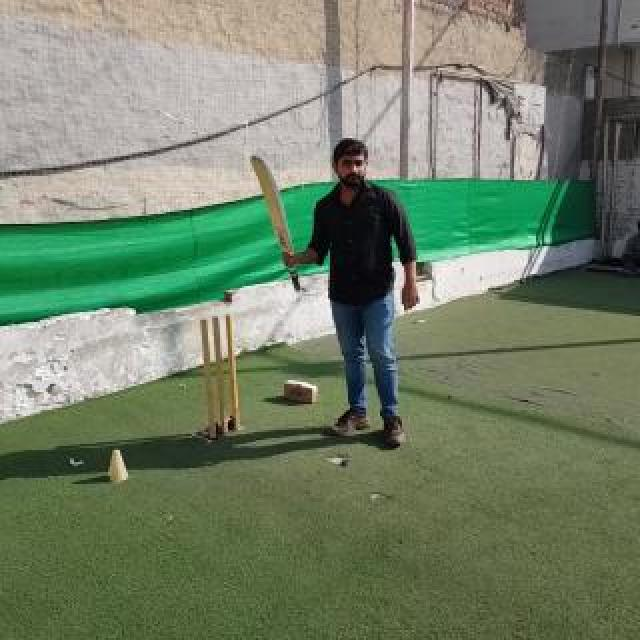bat: (250, 154, 302, 292)
